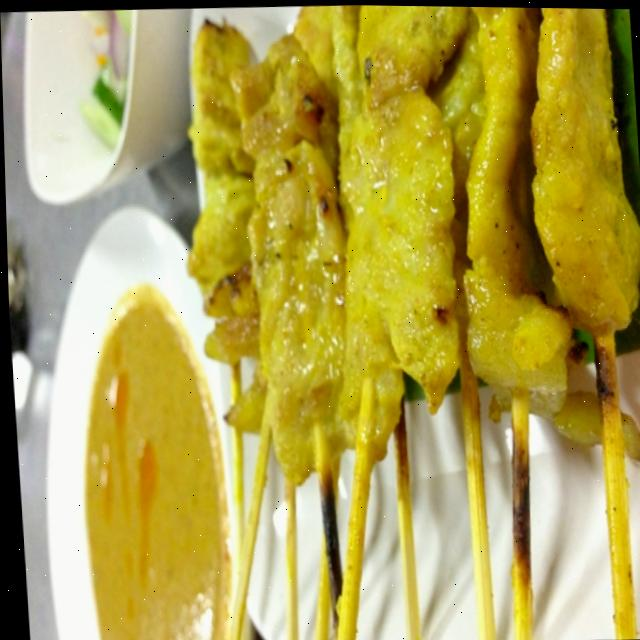牛肉菜式: (12, 0, 640, 640)
